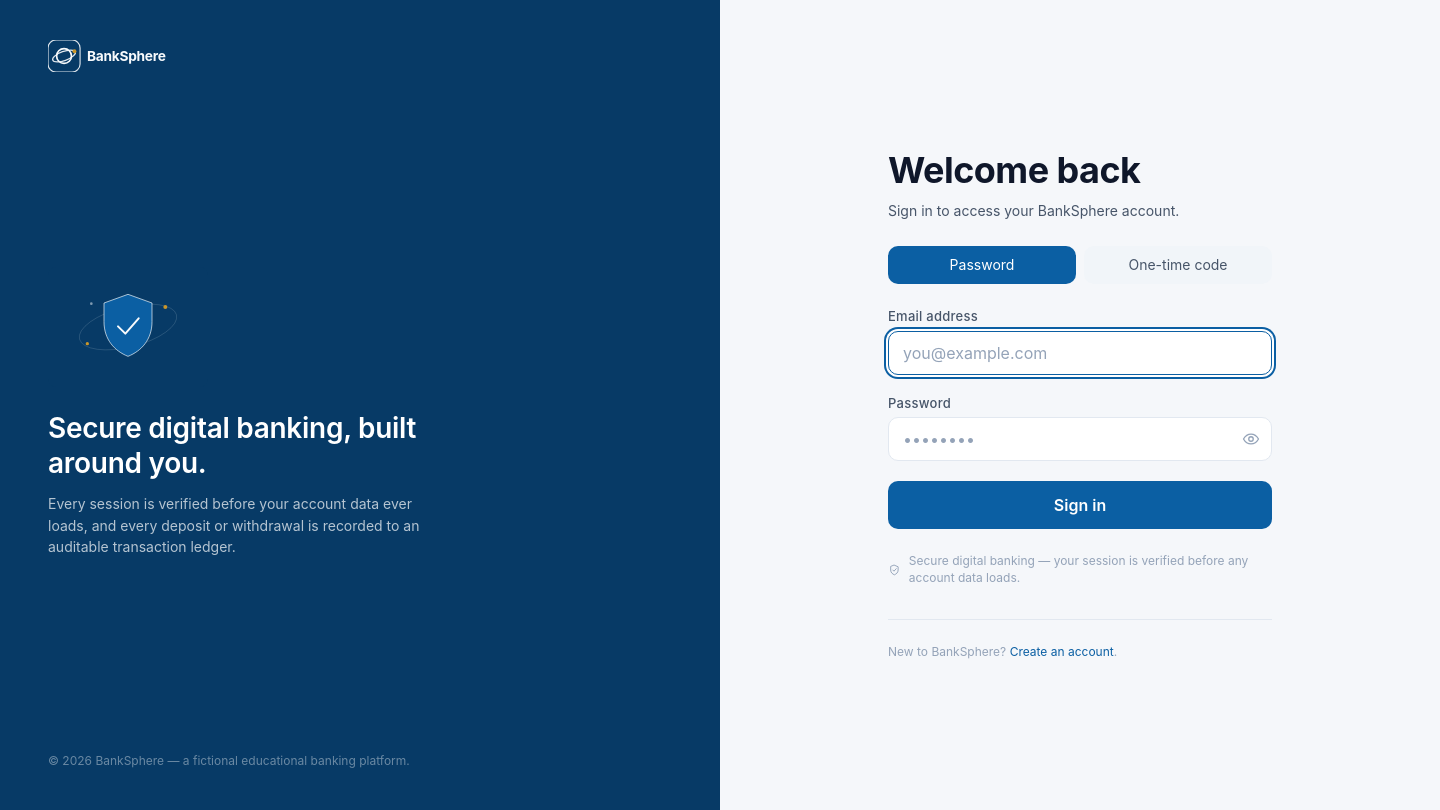
Test: Login page › shows a generic error for invalid password credentials, never revealing whether the email exists
Step 1. Type "jane.doe@example.com" into the field labelled "Email address" → (1080, 353), box [888, 331, 1272, 375]
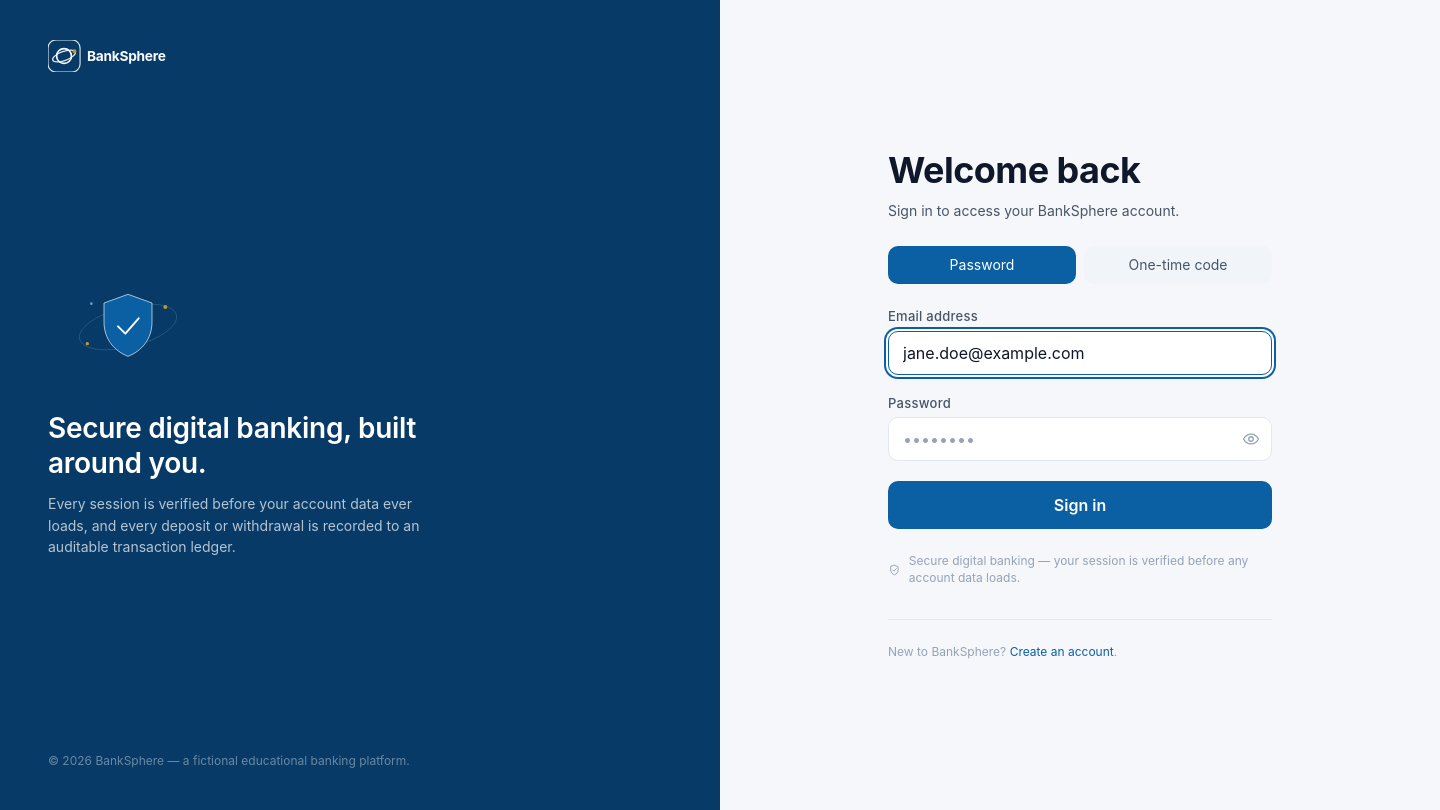
Step 2. Type "WrongPassword1" into the password field labelled "Password" → (1080, 440), box [888, 418, 1272, 462]
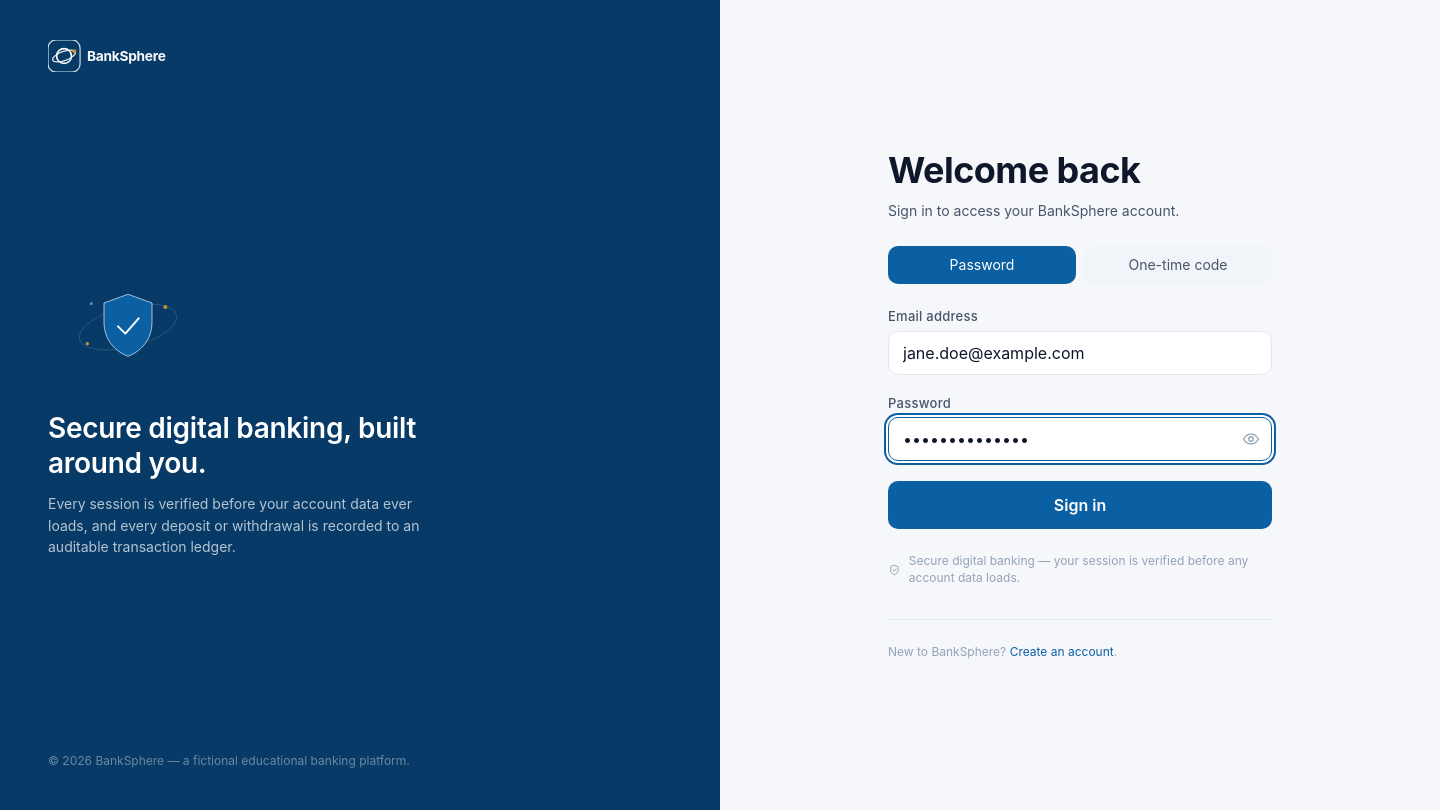
Step 3. Click the button "Sign in" → (1080, 506), box [888, 482, 1272, 530]
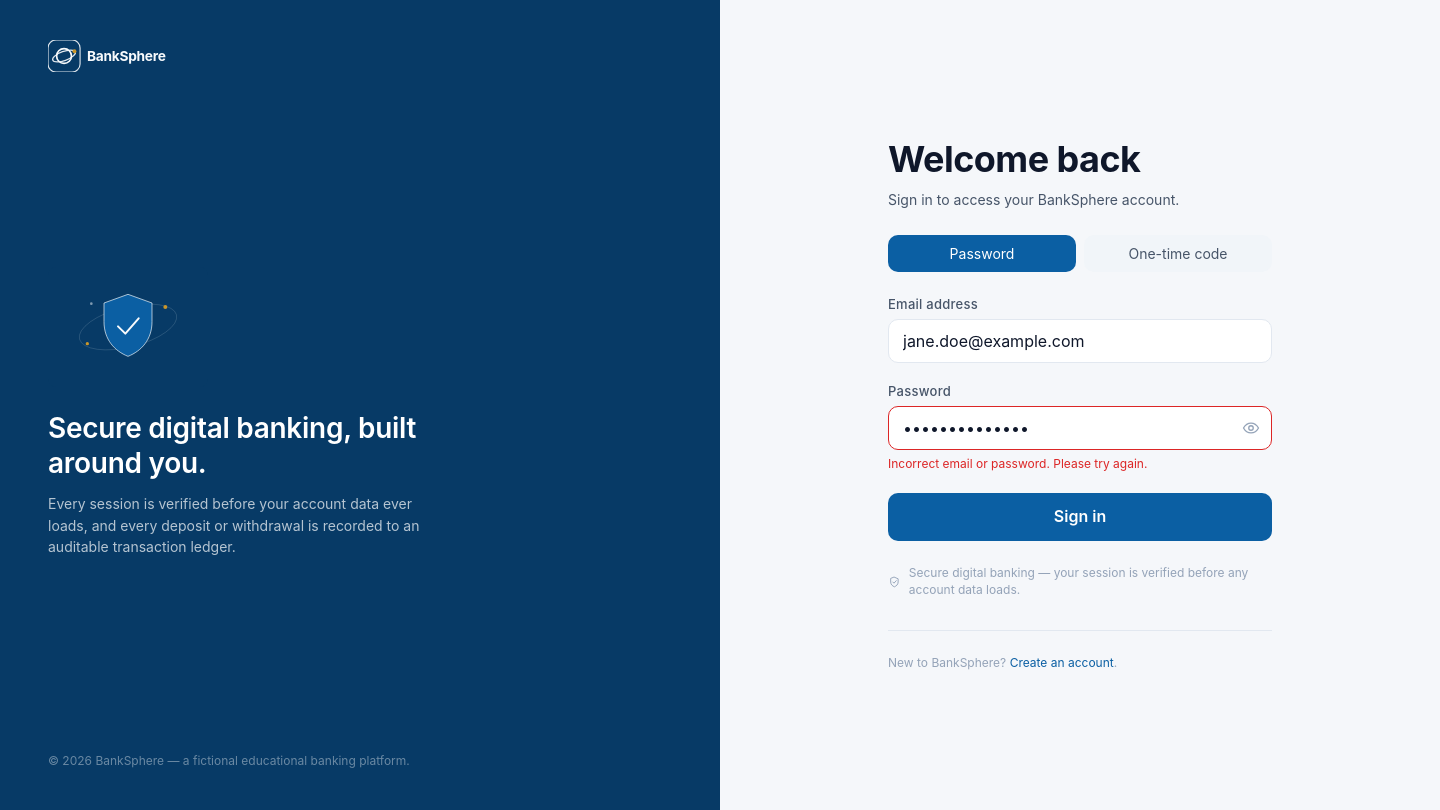
Now the text "Incorrect email or password. Please try again." is shown, box [888, 456, 1147, 471]
